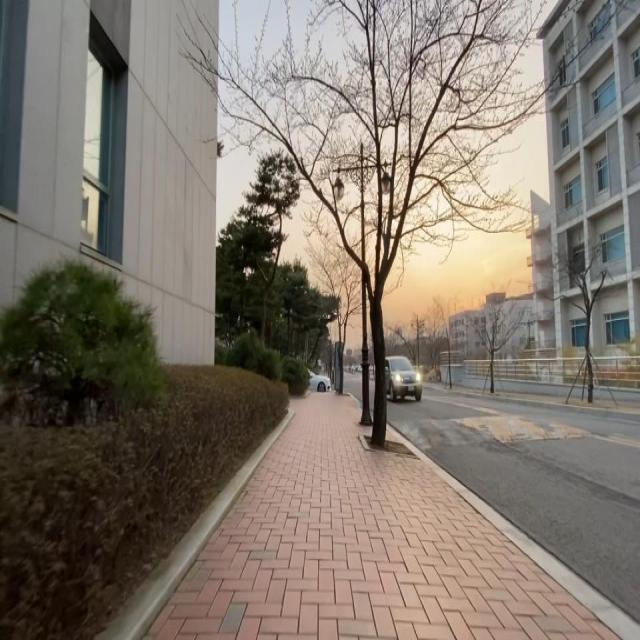sidewalk: (142, 394, 640, 640), (450, 385, 640, 414), (422, 382, 449, 388)
